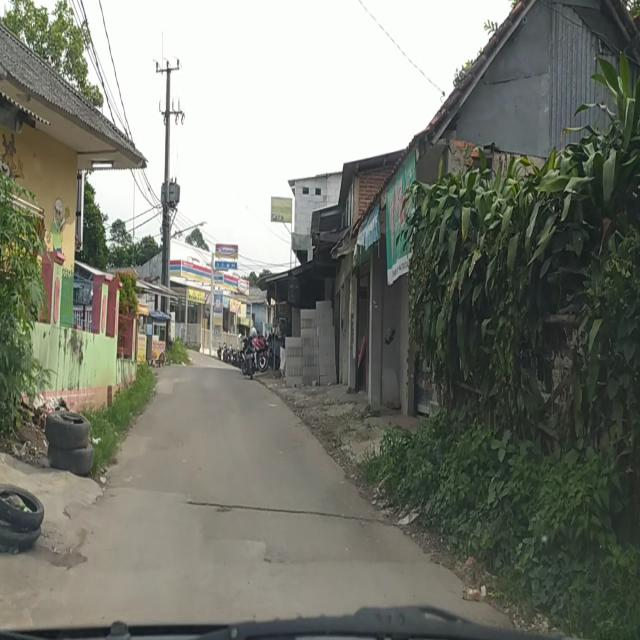Sewer Cover: (180, 497, 381, 523)
